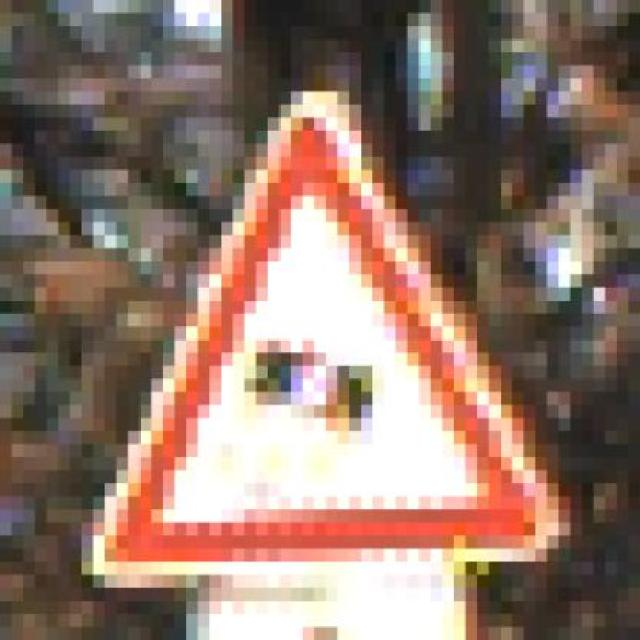Slippery Road Ahead: (68, 59, 580, 595)
